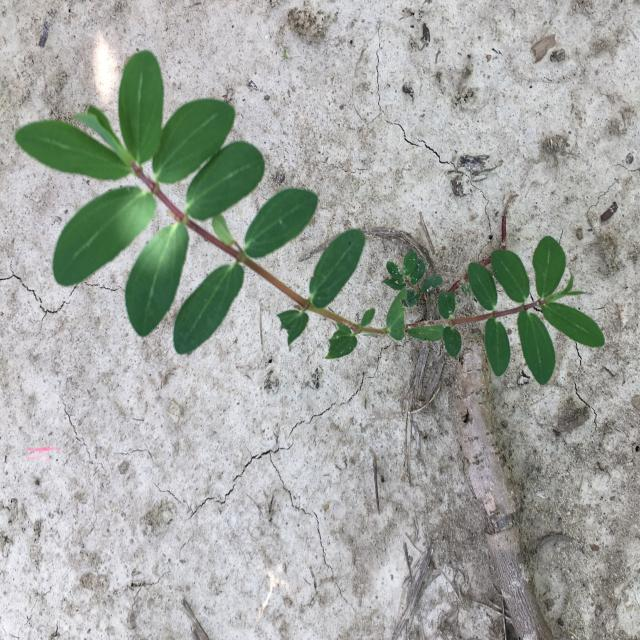SpottedSpurge: (13, 50, 607, 387)
